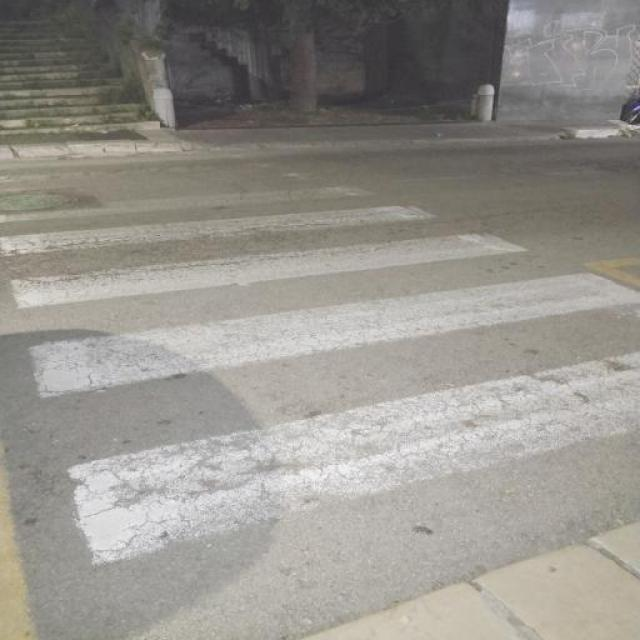crosswalk: (0, 156, 640, 571)
